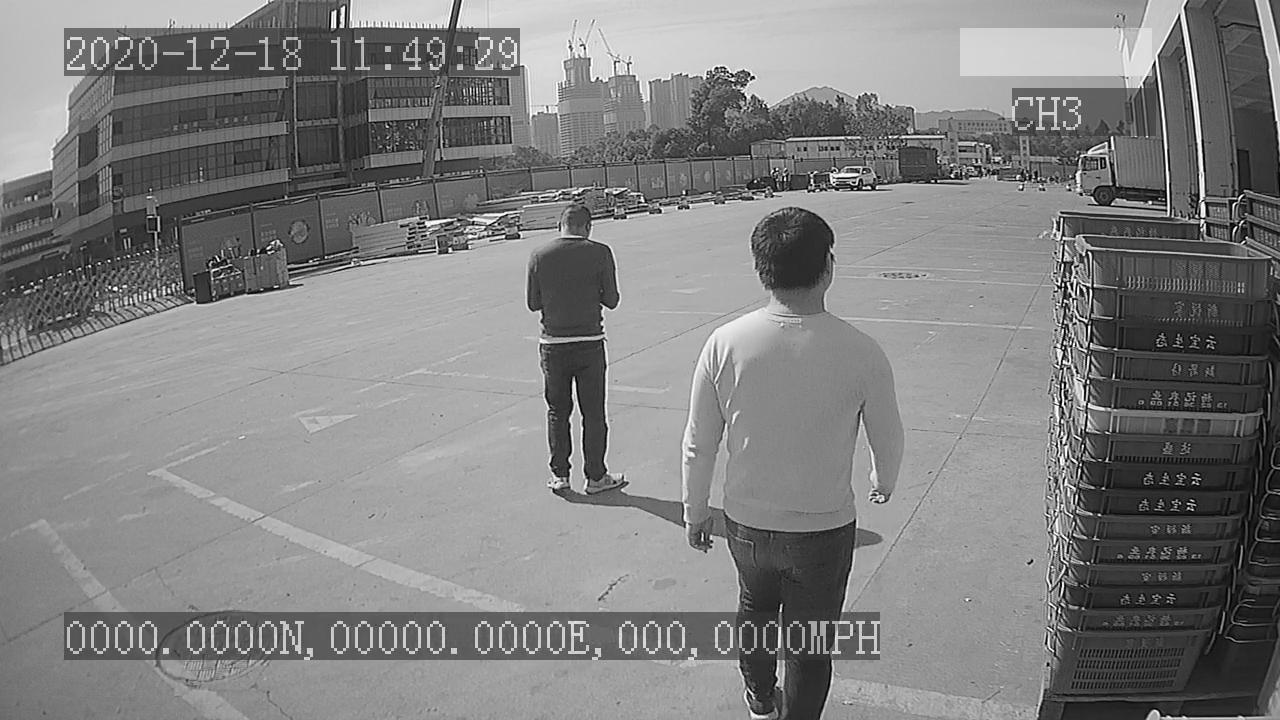person: (524, 199, 631, 502)
